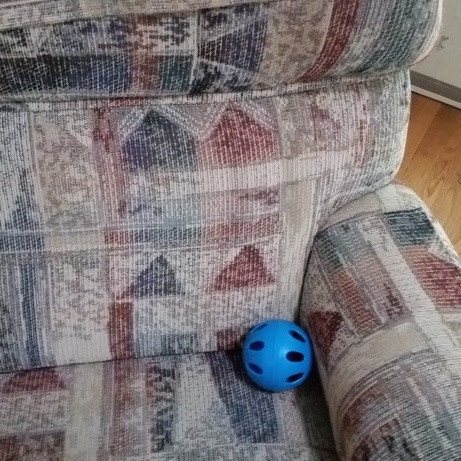blueball: (234, 316, 323, 397)
